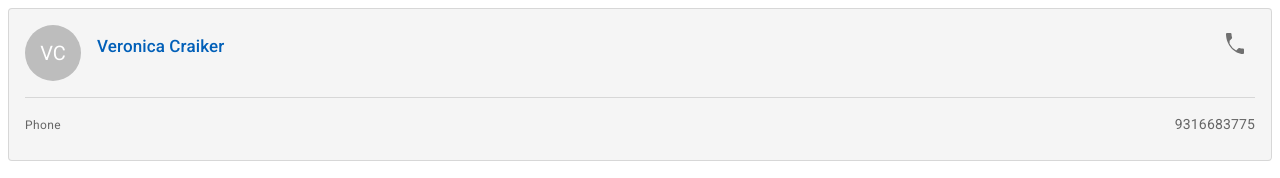
Scenario: ContactCard › should render contact card phone bottom after loading
This screenshot has width=1280, height=178.
Click the button named "contact card phone".
click(1215, 124)  # box [1175, 114, 1255, 134]
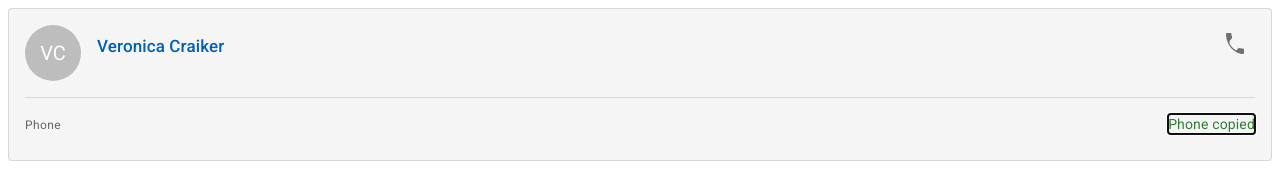
Expected: the button with aria-label "contact card phone" reads "Phone copied", [1168, 114, 1255, 134]
